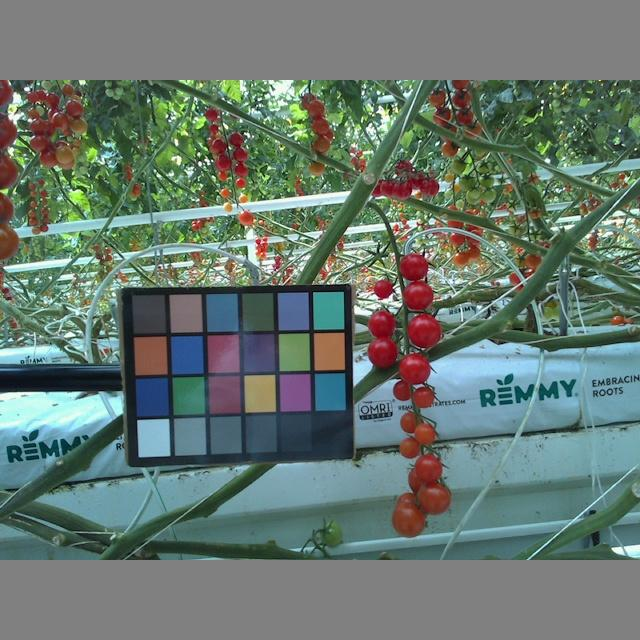pink: (393, 500, 428, 539), (415, 482, 451, 514), (412, 452, 441, 485), (413, 420, 435, 445), (399, 411, 423, 433), (398, 436, 421, 458)
red: (406, 312, 444, 348), (400, 279, 434, 311), (366, 336, 400, 368), (399, 354, 431, 385), (397, 252, 429, 280), (368, 309, 397, 336), (411, 388, 434, 408), (373, 278, 393, 299), (393, 380, 411, 401)
